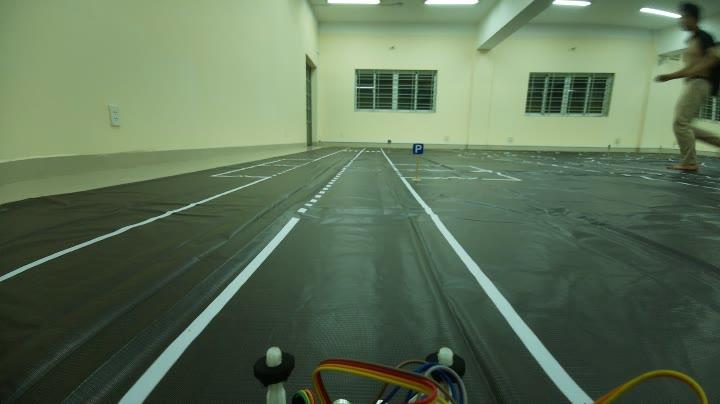parking: (409, 141, 428, 157)
